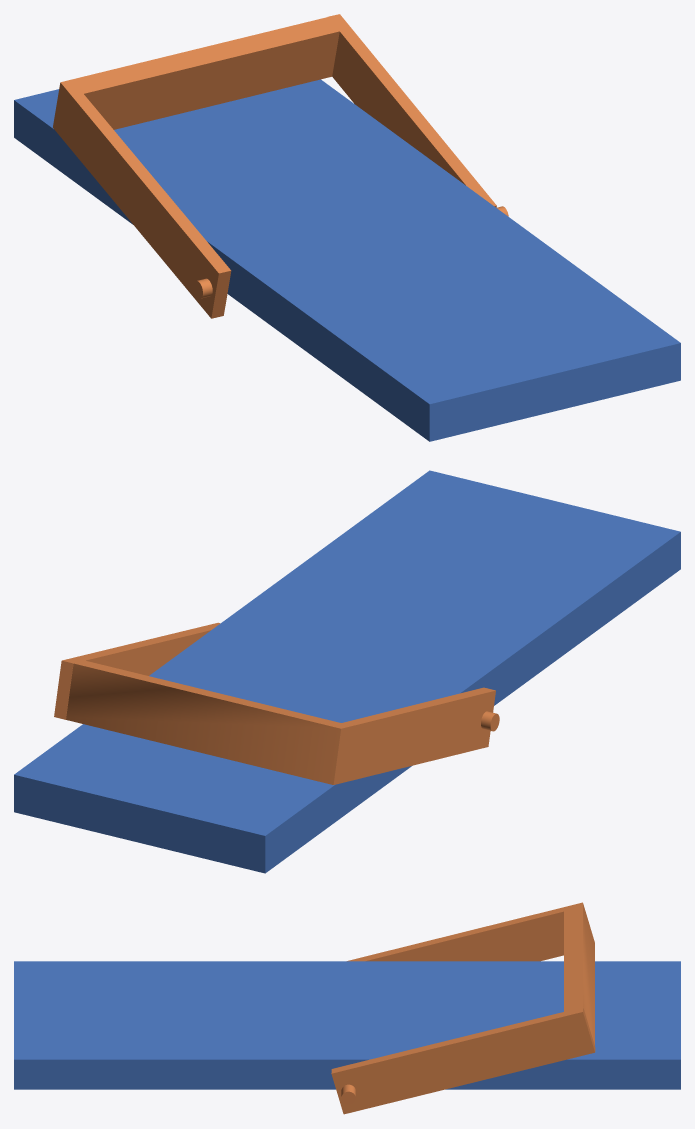
Rendered from woodRotate.fbx.
3 views of the same model, one above another, from view 1: azimuth 30°, elevation 25°; view 2: azimuth 150°, elevation 25°; view 3: azimuth 270°, elevation 25° (orthographic). The views are drawn at different scales.
Parts seen in each view (by area): view 1: woodRotate2, woodRotate1; view 2: woodRotate2, woodRotate1; view 3: woodRotate2, woodRotate1.
Boxes of the visible parts, <box> form: woodRotate2: <box>14,79,680,441</box>; woodRotate1: <box>53,14,496,318</box>; woodRotate2: <box>14,470,680,873</box>; woodRotate1: <box>54,622,495,784</box>; woodRotate2: <box>14,961,680,1089</box>; woodRotate1: <box>331,902,595,1114</box>.
Bounding box in the file's own units: 426 × 170 × 1003.
